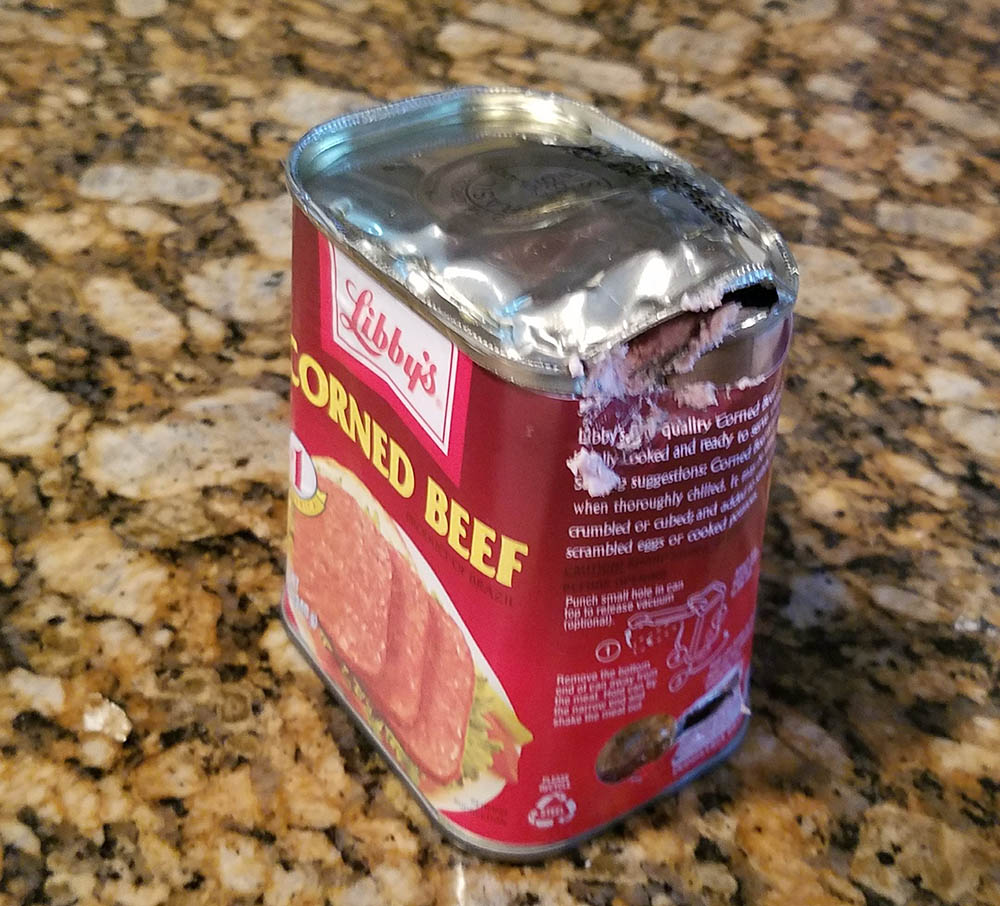beefCan: (231, 75, 848, 892)
